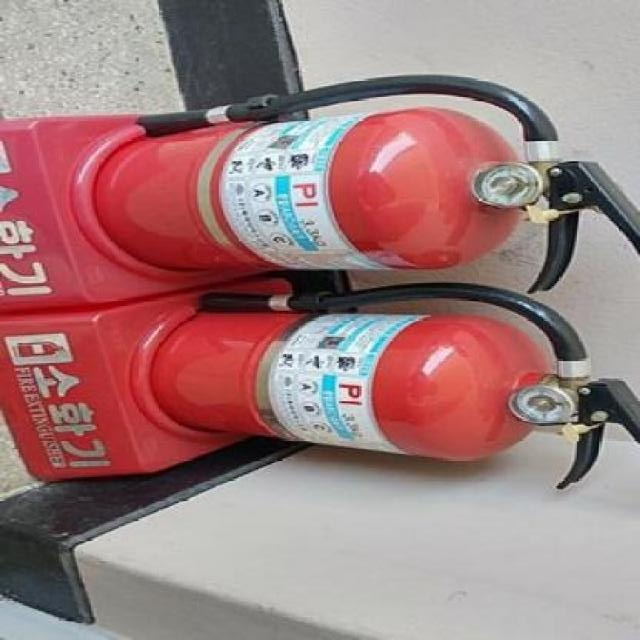fire extinguisher: (92, 74, 640, 294), (154, 282, 640, 490)
